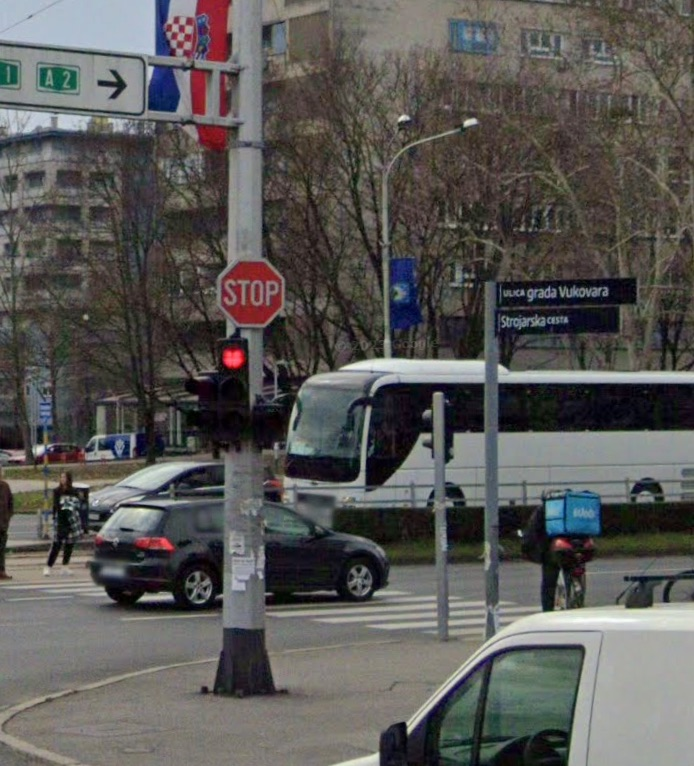Obavezno zaustavljanje: (218, 258, 285, 328)
